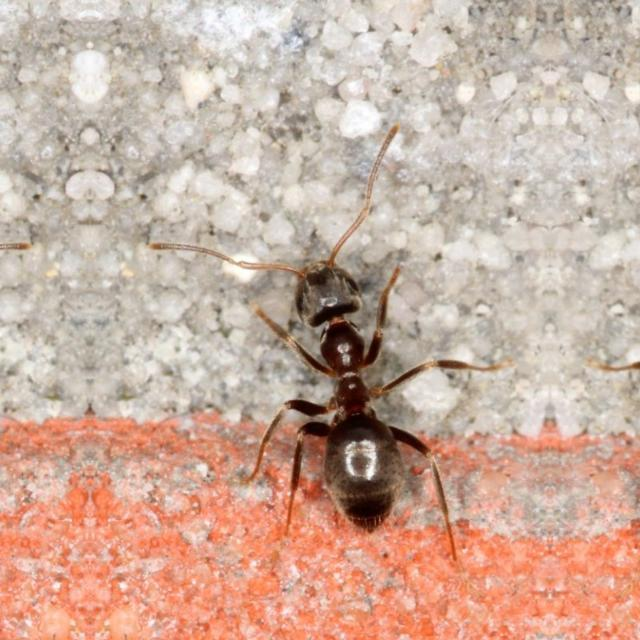Lasius: (248, 208, 488, 560)
